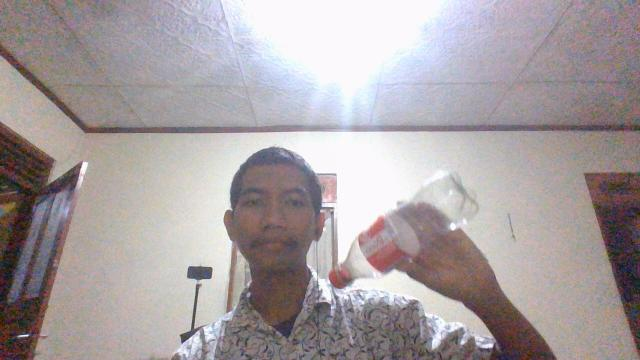coca-cola: (327, 169, 479, 289)
